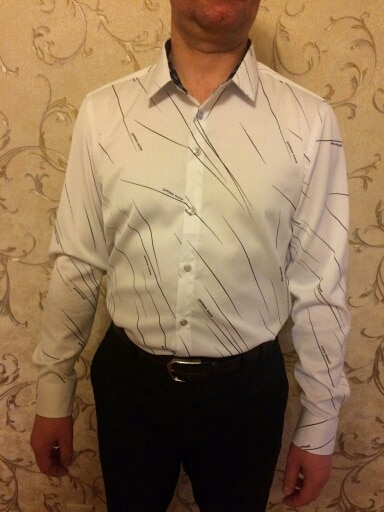shirts: (33, 49, 352, 452)
